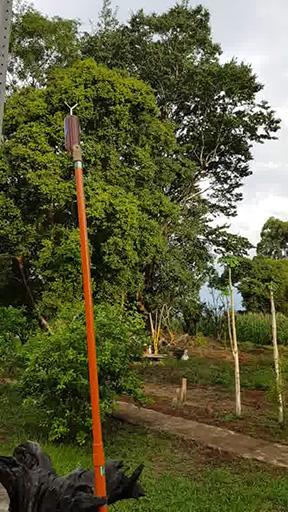Detector_Tensao_Contato: (63, 99, 81, 153)
Vara_Manobra: (72, 150, 108, 512)
